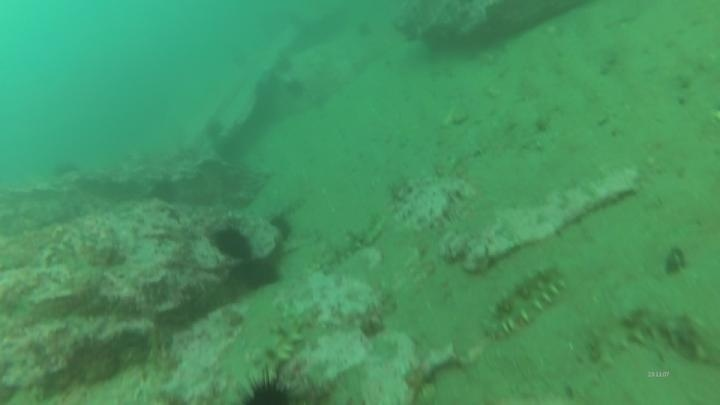echinus: (232, 370, 304, 404), (232, 255, 282, 293), (210, 224, 254, 263), (266, 211, 297, 245)
holothurian: (572, 306, 720, 386), (480, 263, 569, 342), (249, 302, 320, 383), (314, 210, 390, 272)
